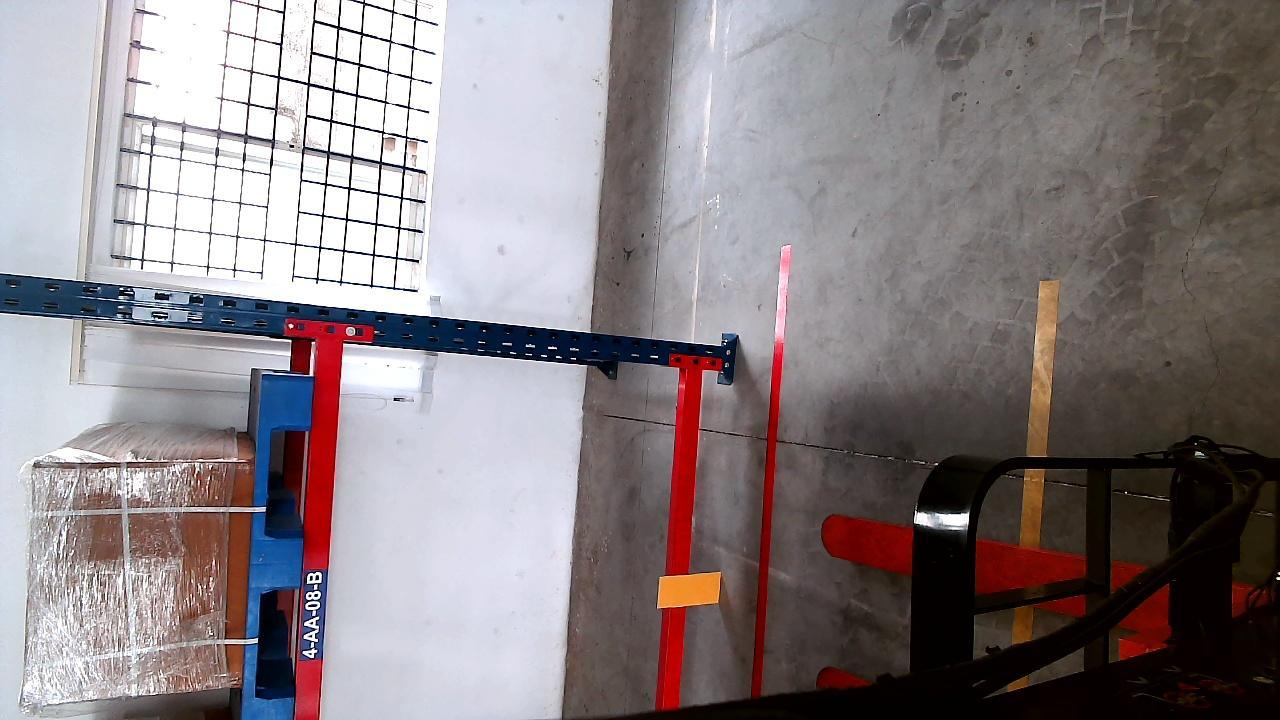red_line: (750, 246, 789, 698)
yellow_line: (1022, 282, 1057, 550)
